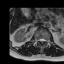CCS_normal: (41, 37, 43, 45)
LFS_stenosis: (45, 38, 46, 43)
LLS_normal: (43, 37, 45, 43)
RFS_stenosis: (36, 37, 39, 42)
RLS_normal: (39, 37, 41, 44)
